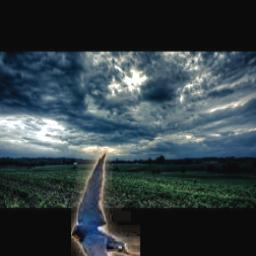Swallow: (71, 150, 140, 256)
